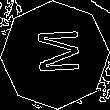M_W: (29, 30, 81, 80)
